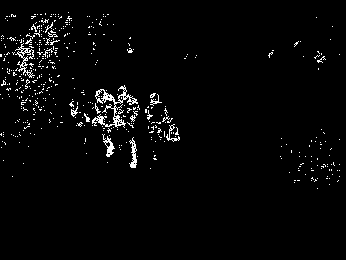person: (144, 93, 181, 162), (116, 86, 139, 167), (93, 89, 115, 157)
